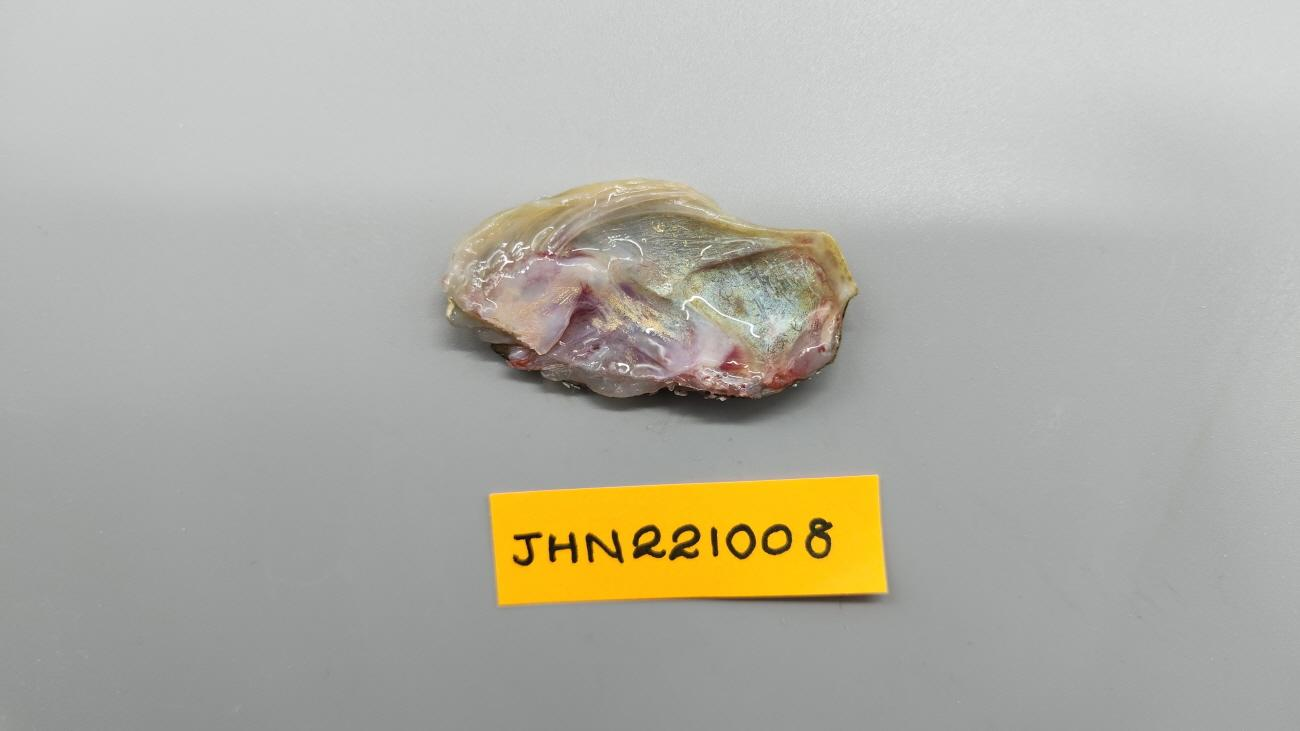POGCN: (440, 178, 859, 402)
